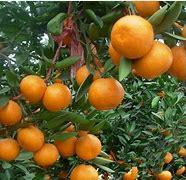orange: (114, 11, 186, 74), (107, 16, 156, 52), (82, 79, 134, 109), (68, 159, 108, 180), (21, 74, 45, 108), (43, 82, 70, 111), (0, 97, 26, 125), (79, 131, 105, 158), (15, 126, 48, 147), (52, 130, 78, 153)
